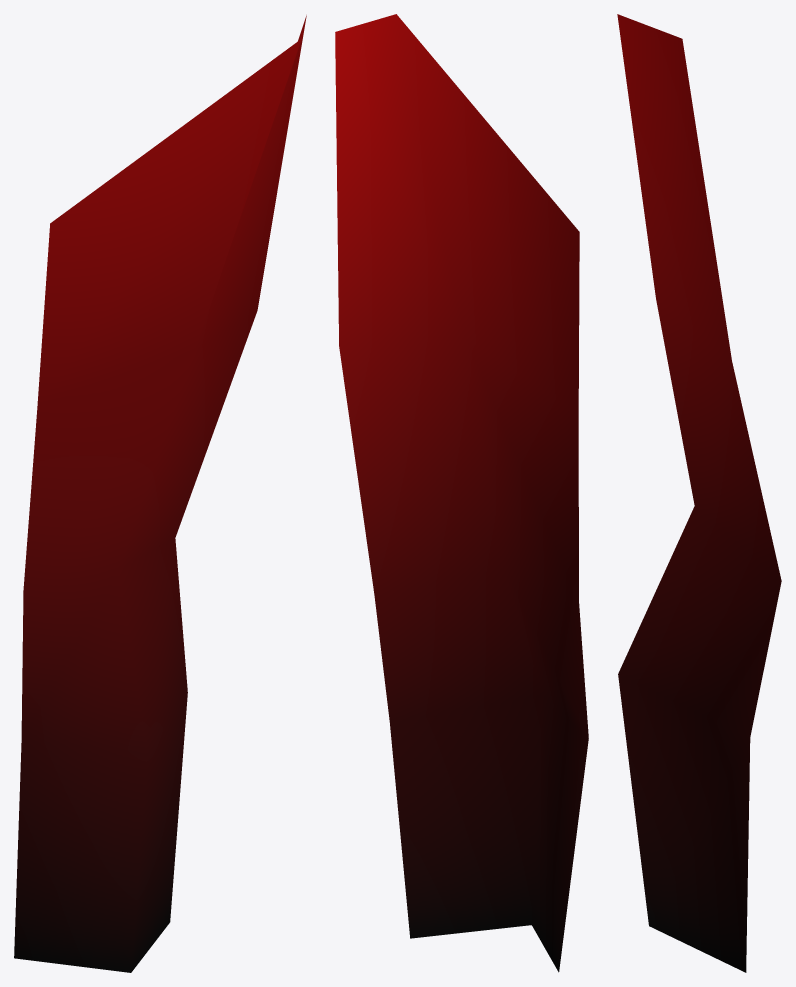
3 views of the same model, side by side, from view 1: azimuth 30°, elevation 25°; view 2: azimuth 150°, elevation 25°; view 3: azimuth 270°, elevation 25° (orthographic). The views are drawn at different scales.
Parts seen in each view (by area): view 1: Posidonia_oceanica.002; view 2: Posidonia_oceanica.002; view 3: Posidonia_oceanica.002.
Boxes of the visible parts, x1=… form: Posidonia_oceanica.002: x1=14, y1=15, x2=306, y2=972; Posidonia_oceanica.002: x1=335, y1=14, x2=588, y2=972; Posidonia_oceanica.002: x1=617, y1=14, x2=781, y2=972.
Bounding box in the file's own units: 0.3864 × 1.22 × 0.1817.
